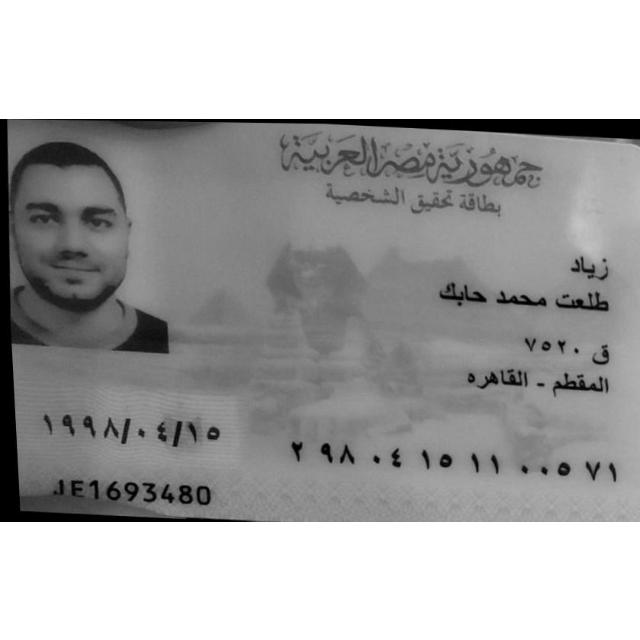front: (0, 119, 639, 521)
